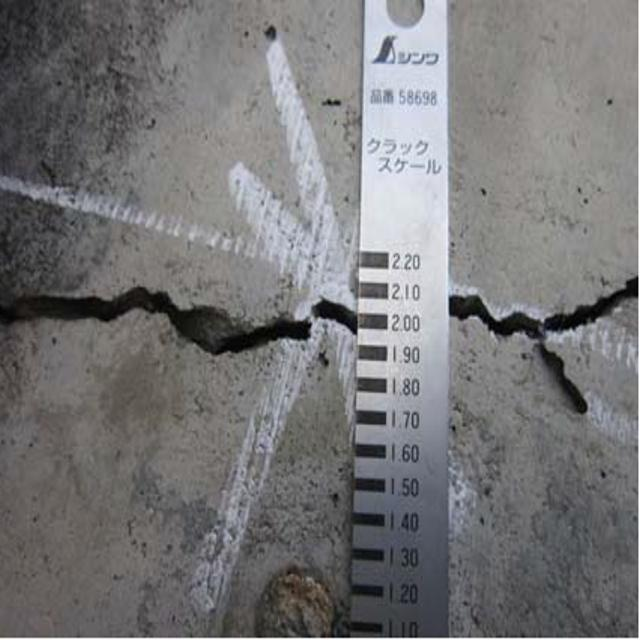crack: (9, 263, 354, 381), (454, 253, 640, 411)
